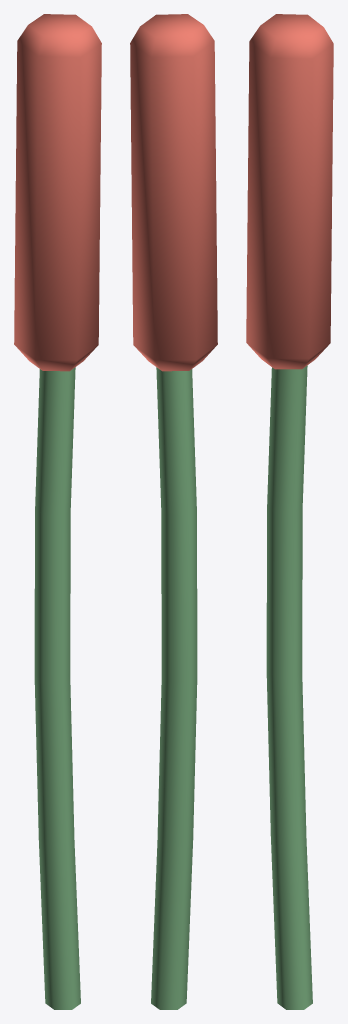
File: cattail_1.fbx
3 views of the same model, side by side, from view 1: azimuth 30°, elevation 25°; view 2: azimuth 150°, elevation 25°; view 3: azimuth 330°, elevation 25° (orthographic).
Parts seen in each view (by area): view 1: cattail; view 2: cattail; view 3: cattail.
Part boxes in pixels (left/top/right/bottom): cattail: left=14, top=14, right=101, bottom=1009; cattail: left=130, top=14, right=217, bottom=1009; cattail: left=246, top=14, right=333, bottom=1009.
Bounding box in the file's own units: 8.33 × 117 × 9.18.
